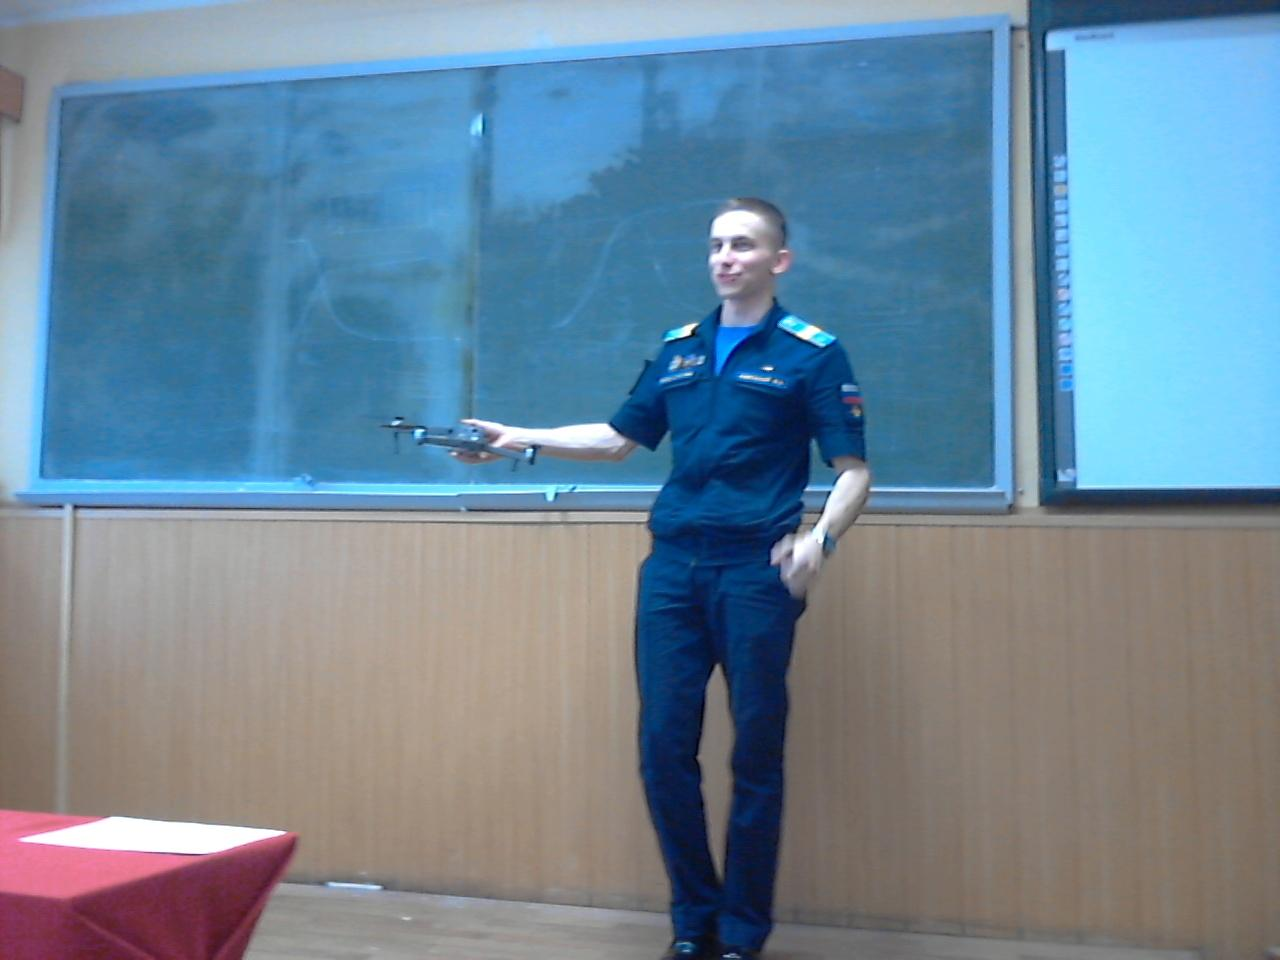drone: (362, 390, 564, 482)
